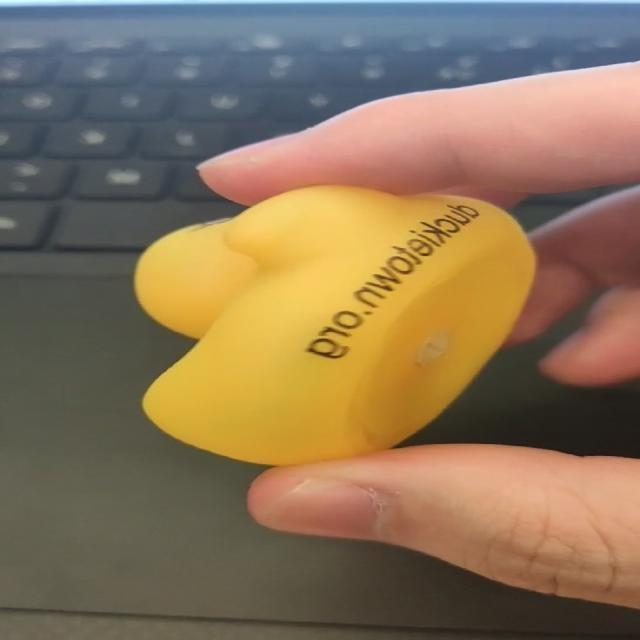rubber-duck: (134, 185, 533, 463)
